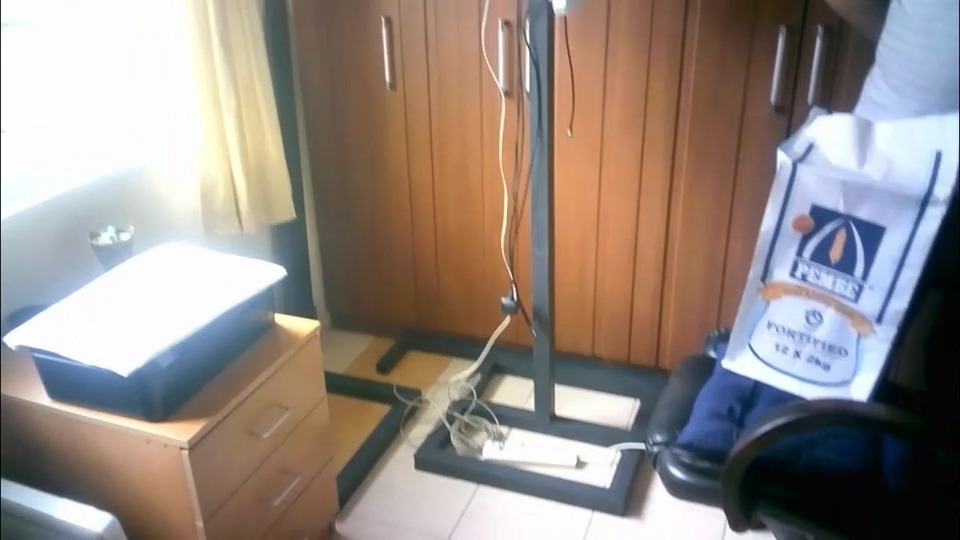wheat_flour_blue_label: (716, 109, 948, 403)
